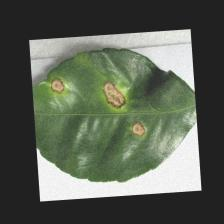canker: (48, 71, 151, 144)
